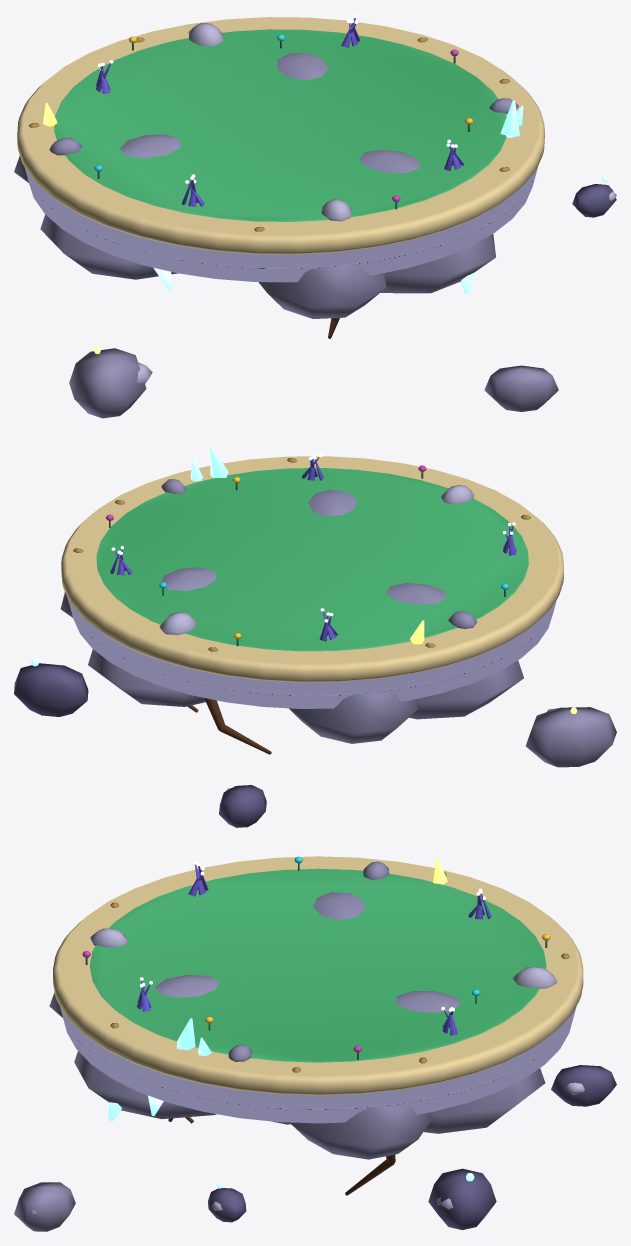
File: arena_field.glb
3 views of the same model, one above another, from view 1: azimuth 30°, elevation 25°; view 2: azimuth 150°, elevation 25°; view 3: azimuth 270°, elevation 25° (orthographic). The views are drawn at different scales.
Parts seen in each view (by area): view 1: Grass, Body, Chunks, Decor; view 2: Grass, Body, Chunks, Decor; view 3: Grass, Body, Chunks, Decor.
Part boxes in pixels (x1=…): Grass: x1=54, y1=29, x2=506, y2=221; Body: x1=14, y1=17, x2=544, y2=338; Chunks: x1=69, y1=176, x2=616, y2=418; Decor: x1=29, y1=14, x2=523, y2=231; Grass: x1=96, y1=468, x2=528, y2=651; Body: x1=60, y1=456, x2=563, y2=754; Chunks: x1=14, y1=658, x2=616, y2=827; Decor: x1=73, y1=447, x2=530, y2=651; Grass: x1=90, y1=868, x2=546, y2=1062; Body: x1=49, y1=856, x2=583, y2=1195; Chunks: x1=14, y1=1065, x2=616, y2=1231; Decor: x1=82, y1=856, x2=569, y2=1072.
Bounding box in the file's own units: 8.41 × 3.54 × 7.94.
